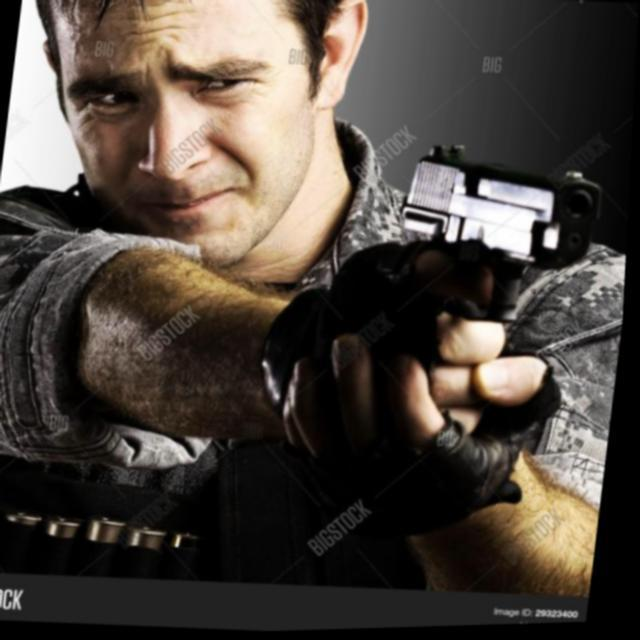weapon: (396, 137, 614, 284)
